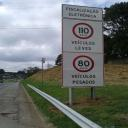speed_limit_110: (72, 22, 94, 40)
